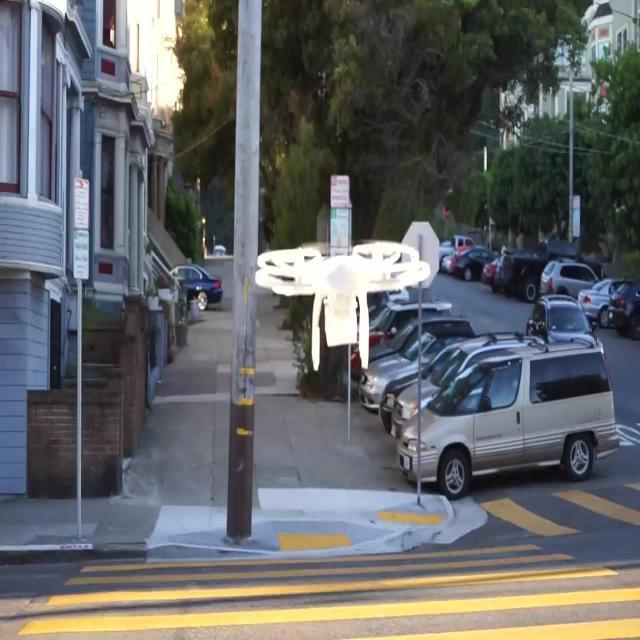UAV: (255, 242, 431, 372)
